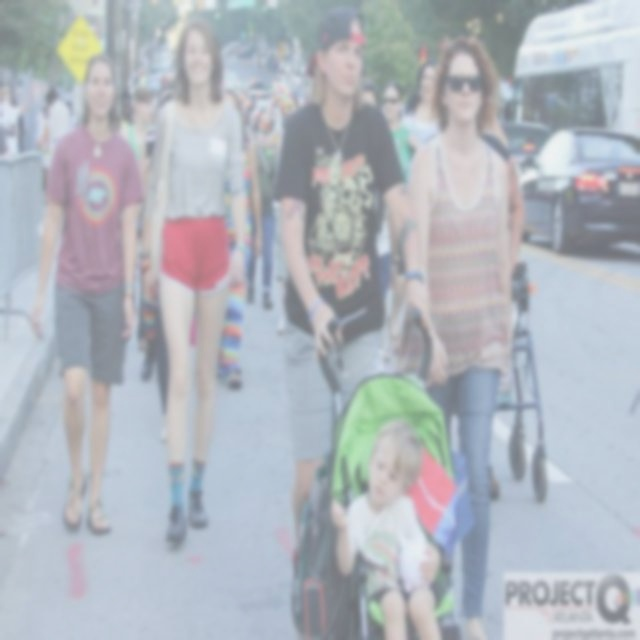pessoa: (403, 29, 515, 638), (26, 48, 148, 540), (140, 16, 250, 548), (329, 416, 444, 638), (215, 86, 264, 390), (116, 82, 162, 354), (380, 78, 420, 356), (358, 75, 394, 306), (244, 104, 279, 310), (394, 56, 448, 152), (134, 298, 164, 399), (0, 82, 33, 159), (36, 86, 74, 140), (508, 164, 527, 272), (272, 80, 316, 112), (481, 112, 512, 157), (274, 214, 284, 337), (156, 66, 176, 104), (113, 90, 132, 121), (38, 140, 52, 179), (241, 89, 256, 122), (140, 125, 156, 154), (16, 116, 28, 150), (158, 404, 166, 441), (12, 96, 18, 105)
